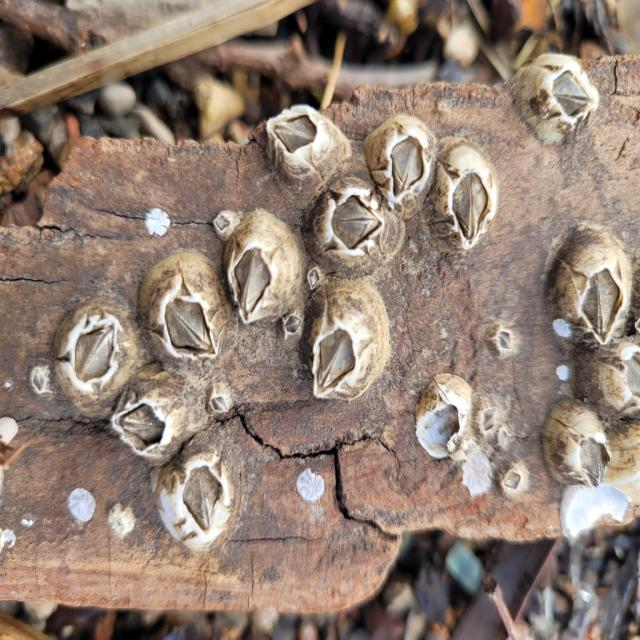barnacles: (214, 192, 296, 332), (135, 249, 232, 365), (141, 448, 239, 557), (548, 216, 624, 346), (311, 184, 406, 277), (316, 296, 396, 406), (49, 302, 130, 410), (518, 50, 602, 152), (426, 142, 498, 260), (107, 366, 187, 464), (258, 99, 347, 182), (536, 397, 607, 495), (366, 111, 434, 211), (205, 381, 239, 430)
